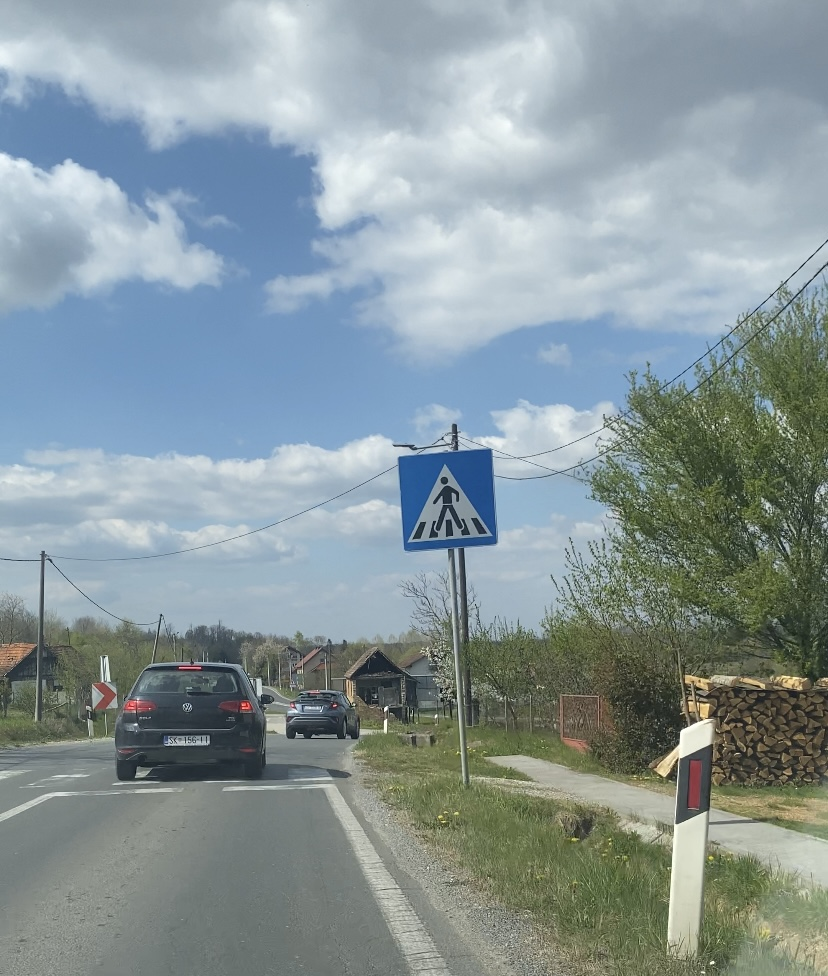Pješački prijelaz: (398, 448, 497, 553)
